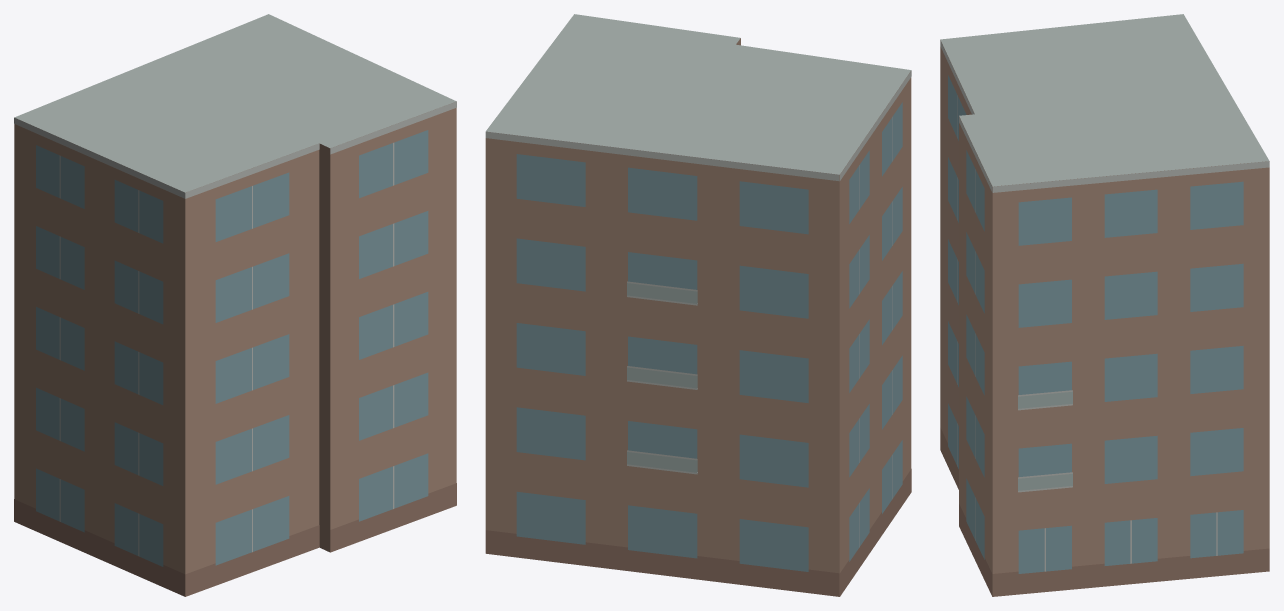
Rendered from survey-upis-32589580.glb.
3 views of the same model, side by side, from view 1: azimuth 30°, elevation 25°; view 2: azimuth 150°, elevation 25°; view 3: azimuth 270°, elevation 25° (orthographic). The views are drawn at different scales.
Visible parts, largest first — view 1: survey-upis-32589580.tmp; view 2: survey-upis-32589580.tmp; view 3: survey-upis-32589580.tmp.
Part boxes in pixels (<box>): survey-upis-32589580.tmp: <box>14,14,456,596</box>; survey-upis-32589580.tmp: <box>485,14,911,596</box>; survey-upis-32589580.tmp: <box>940,14,1269,596</box>.
Bounding box in the file's own units: 14.17 × 15.7 × 11.43.
